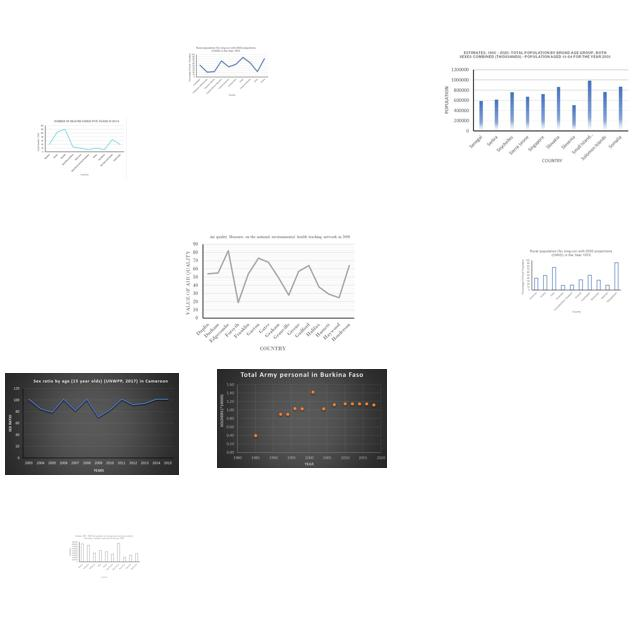Graph: (438, 48, 632, 164), (181, 231, 357, 353), (5, 373, 179, 475), (217, 369, 387, 468), (520, 249, 622, 315), (34, 117, 127, 179), (187, 45, 269, 97), (67, 534, 141, 578)
